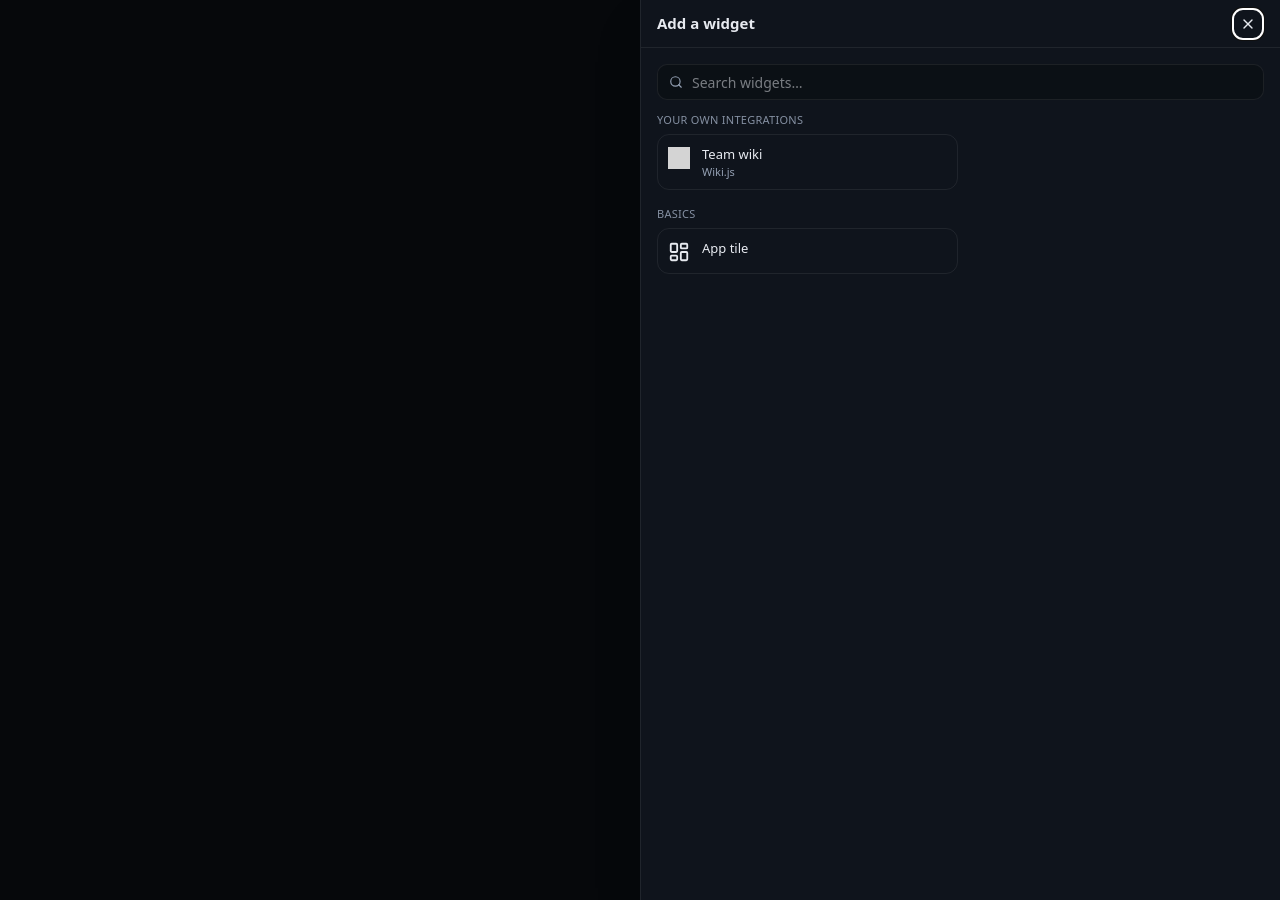
Test case: connections of an own kind in the library › karten4 ac4: the search narrows them like the rest of the library
Expected: the element with test id "library-own-connections" is shown, [657, 112, 958, 190]
In the field: (960, 82) [657, 64, 1264, 100], type "zzz"
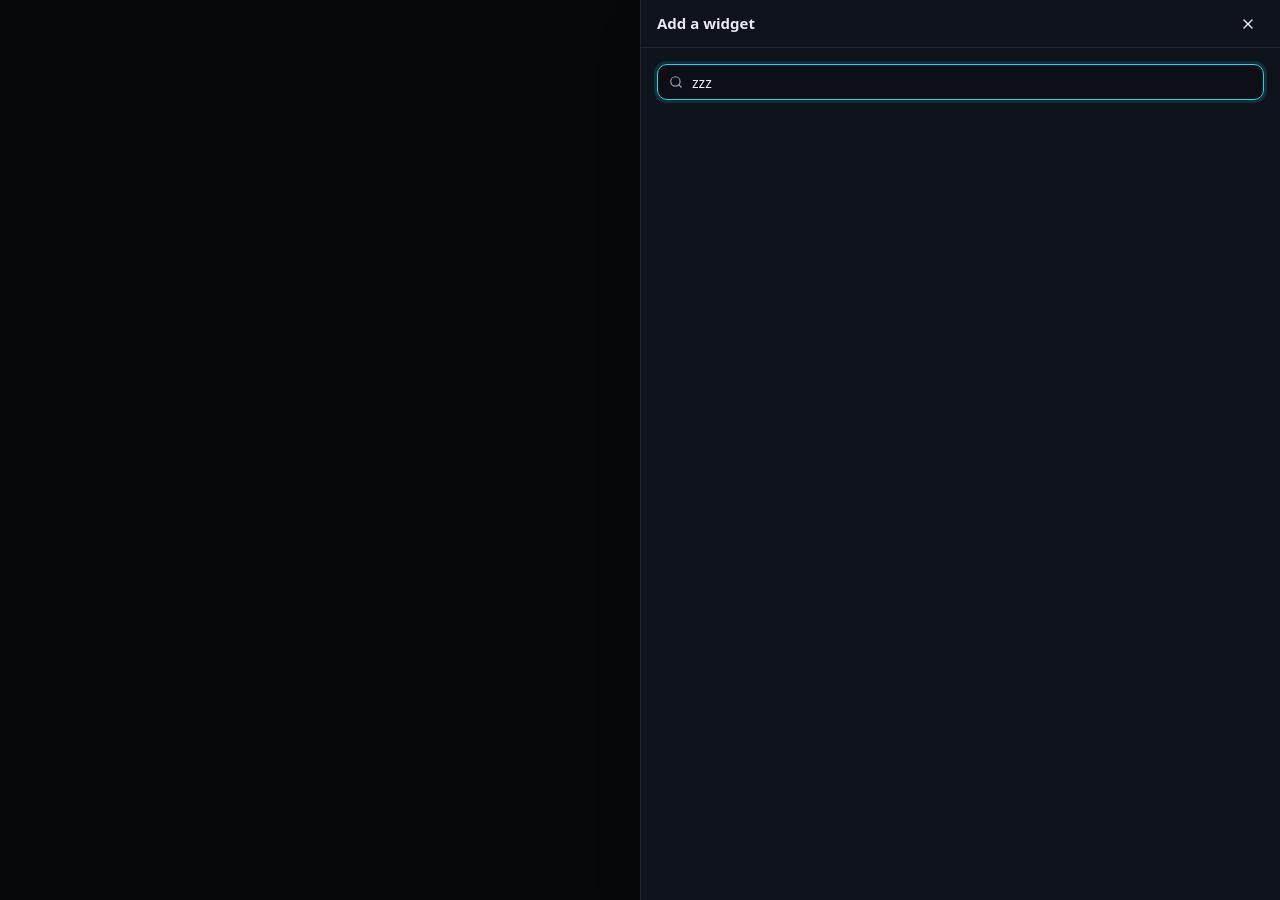
Now the element with test id "library-own-connections" is gone
